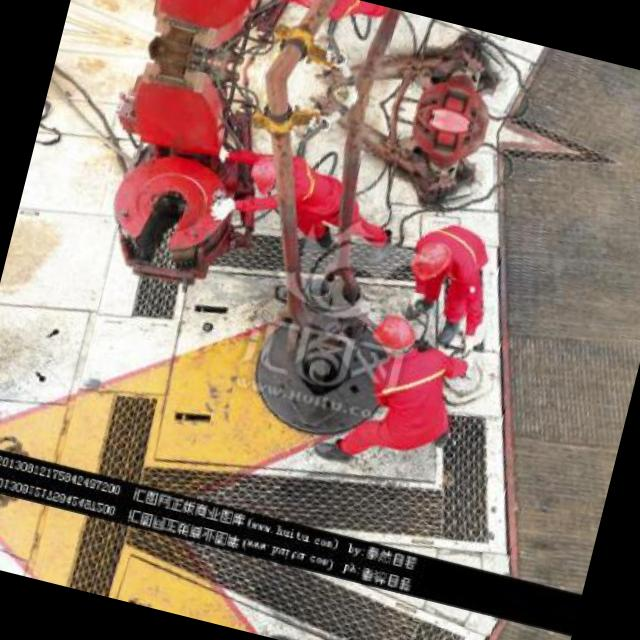helmet: (362, 306, 417, 362), (240, 146, 296, 198), (409, 234, 452, 284), (285, 0, 337, 17)
